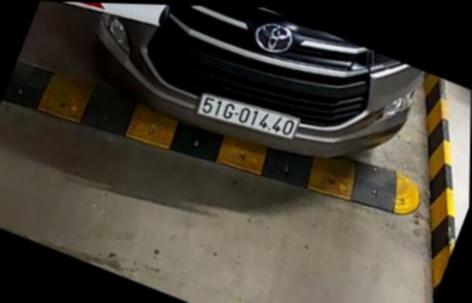License_Plate: (196, 88, 301, 149)
